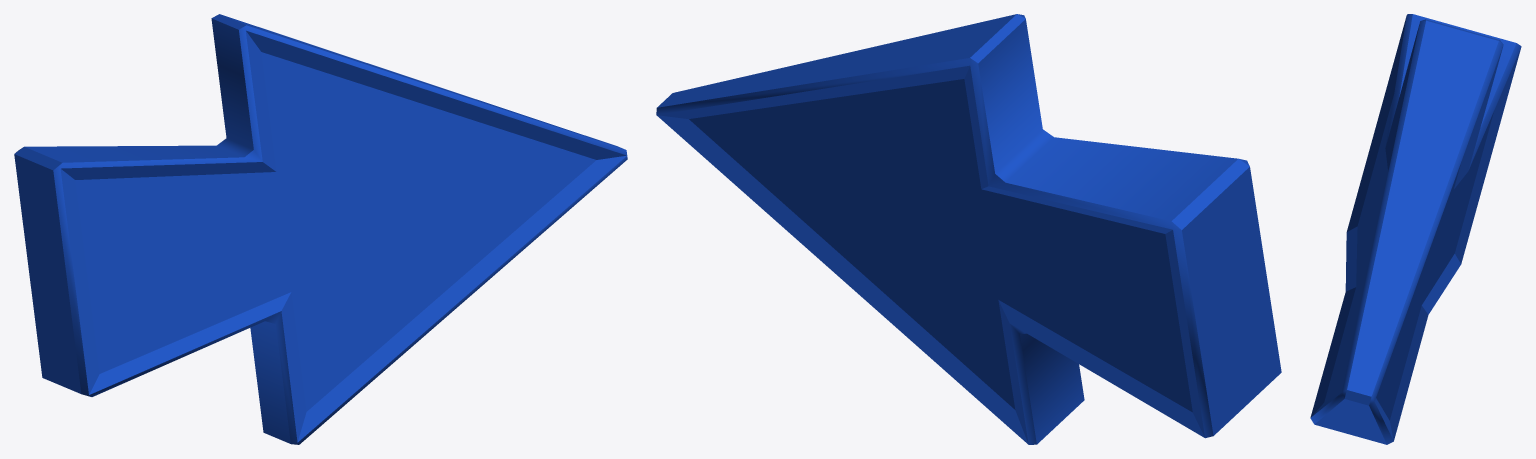
Rendered from right.glb.
The picture shows the model from 3 angles, left to right: view 1: azimuth 30°, elevation 25°; view 2: azimuth 150°, elevation 25°; view 3: azimuth 270°, elevation 25°; orthographic projection. The views are drawn at different scales.
Parts seen in each view (by area): view 1: node_id31; view 2: node_id31; view 3: node_id31.
Part boxes in pixels (x1,y1,x2,y2): node_id31: (14, 14, 627, 444); node_id31: (656, 14, 1281, 444); node_id31: (1310, 14, 1521, 444).
Bounding box in the file's own units: 0.786 × 0.5465 × 0.2489.
1 material, 1 textured.
